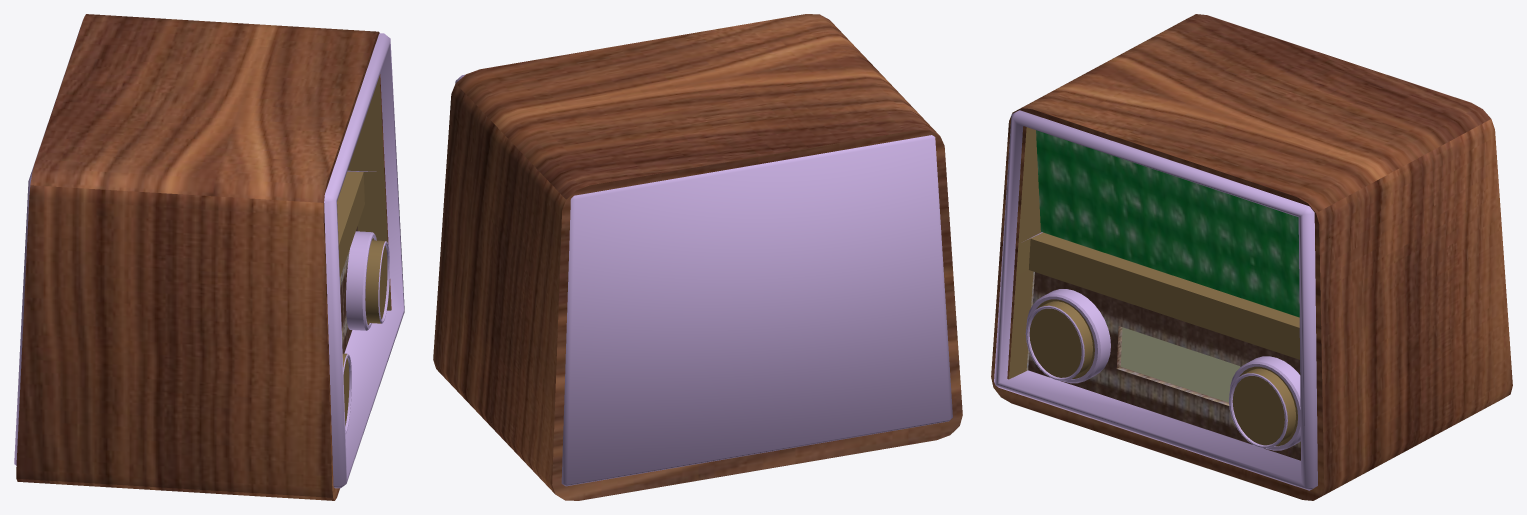
File: РАДИО.fbx
3 renders of one model, left to right at view 1: azimuth 30°, elevation 25°; view 2: azimuth 150°, elevation 25°; view 3: azimuth 270°, elevation 25°, orthographic. The views are drawn at different scales.
Visible parts, largest first — view 1: Куб, Куб.003, Куб.002; view 2: Куб.003, Куб; view 3: Куб, Куб.001, Куб.003, Куб.002.
Part boxes in pixels (x1,y1,x2,y2): Куб: (16, 14, 391, 500); Куб.003: (14, 20, 404, 488); Куб.002: (342, 231, 389, 433); Куб.003: (455, 74, 952, 486); Куб: (433, 14, 962, 500); Куб: (991, 14, 1512, 500); Куб.001: (1036, 130, 1299, 317); Куб.003: (994, 110, 1317, 490); Куб.002: (1025, 289, 1300, 450).
Size of the model in its own units: 236 by 153 by 245.
Materials: 6 (3 with a texture image).
